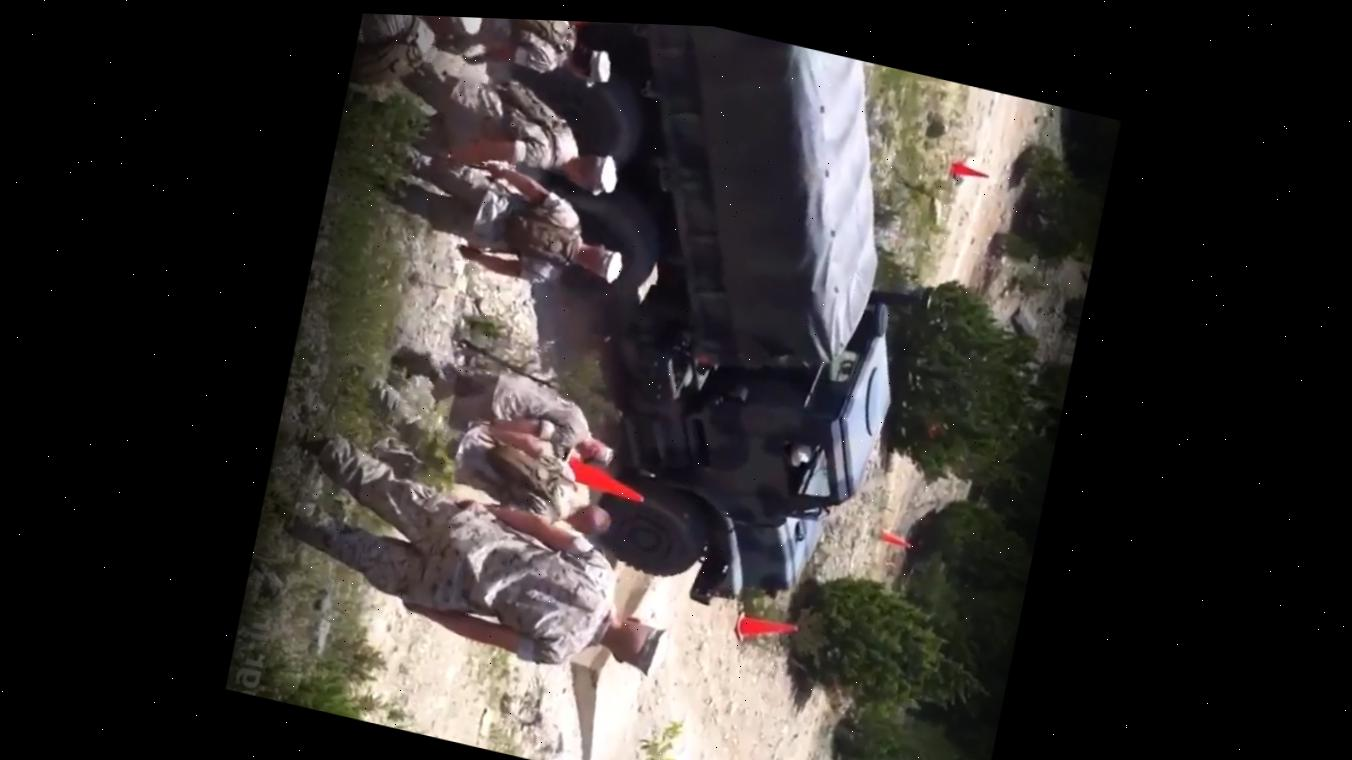truck: (419, 16, 965, 651)
